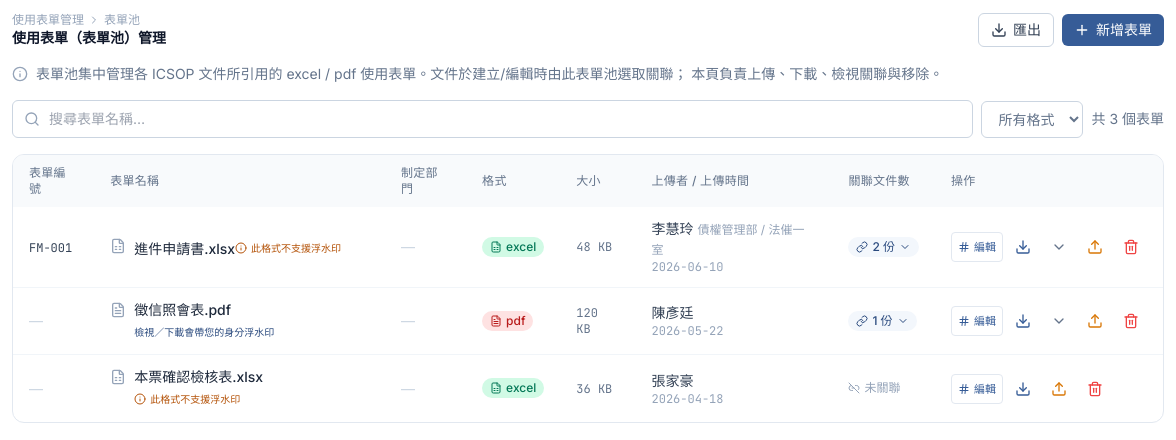
Test: UsageFormManagementPage — 使用表單管理（F018） › 格式篩選 pdf → 僅顯示 pdf 表單
Expected: the text "進件申請書.xlsx" is shown, [134,240,235,256]
Select "pdf" in the dropdown named "格式篩選": (1032, 119) [982,100,1084,138]
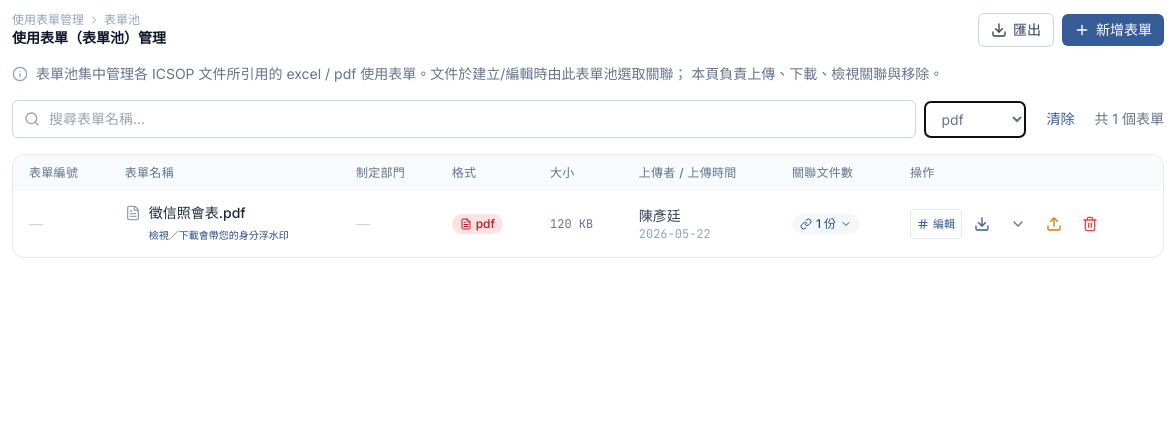
Expected: the text "徵信照會表.pdf" is shown, [149,204,246,221]
Expected: the text "進件申請書.xlsx" is gone
